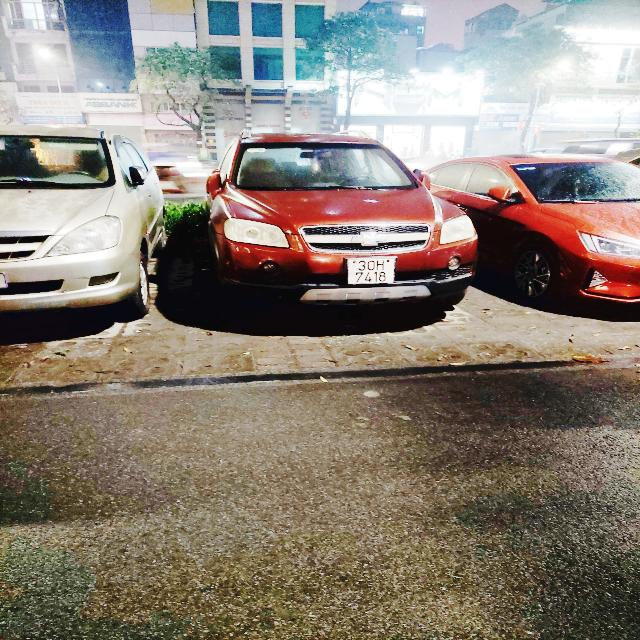license_plate: (347, 257, 400, 286)
